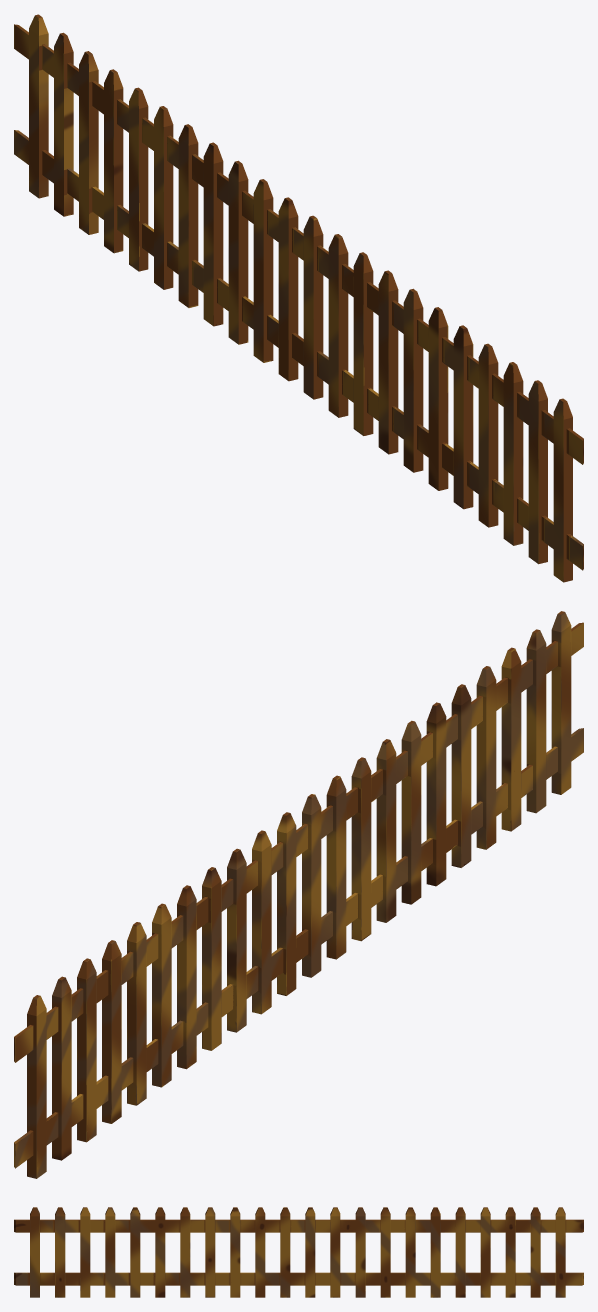
File: Fence.fbx
The picture shows the model from 3 angles, top to bottom: view 1: azimuth 30°, elevation 25°; view 2: azimuth 150°, elevation 25°; view 3: azimuth 270°, elevation 25°; orthographic projection. The views are drawn at different scales.
Visible parts, largest first — view 1: Fence; view 2: Fence; view 3: Fence.
Boxes of the visible parts, x1=… form: Fence: x1=14, y1=14, x2=583, y2=582; Fence: x1=14, y1=611, x2=583, y2=1178; Fence: x1=14, y1=1207, x2=583, y2=1297.
Bounding box in the file's own units: 14.71 × 1508 × 259.
